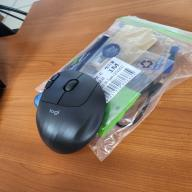mouse: (34, 69, 106, 155)
